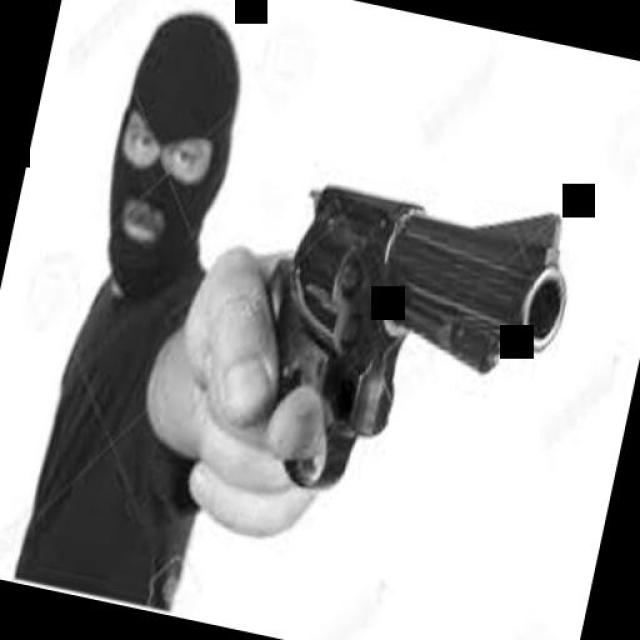gun: (212, 152, 580, 530)
